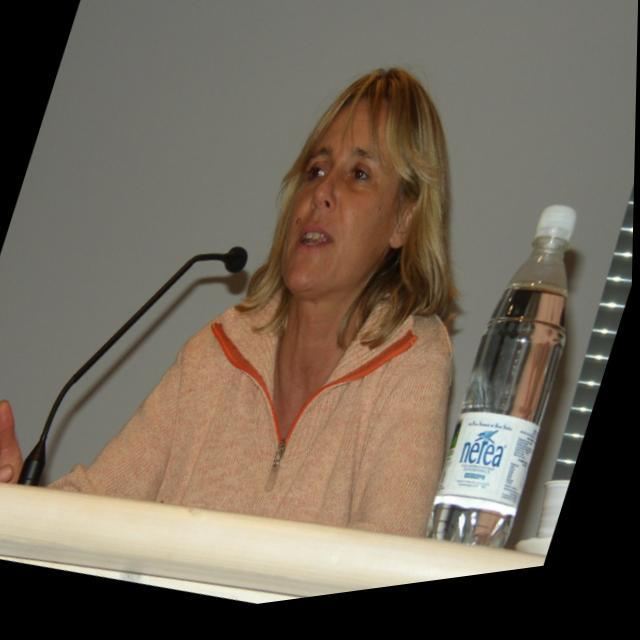Nonhelmet: (232, 63, 464, 350)
